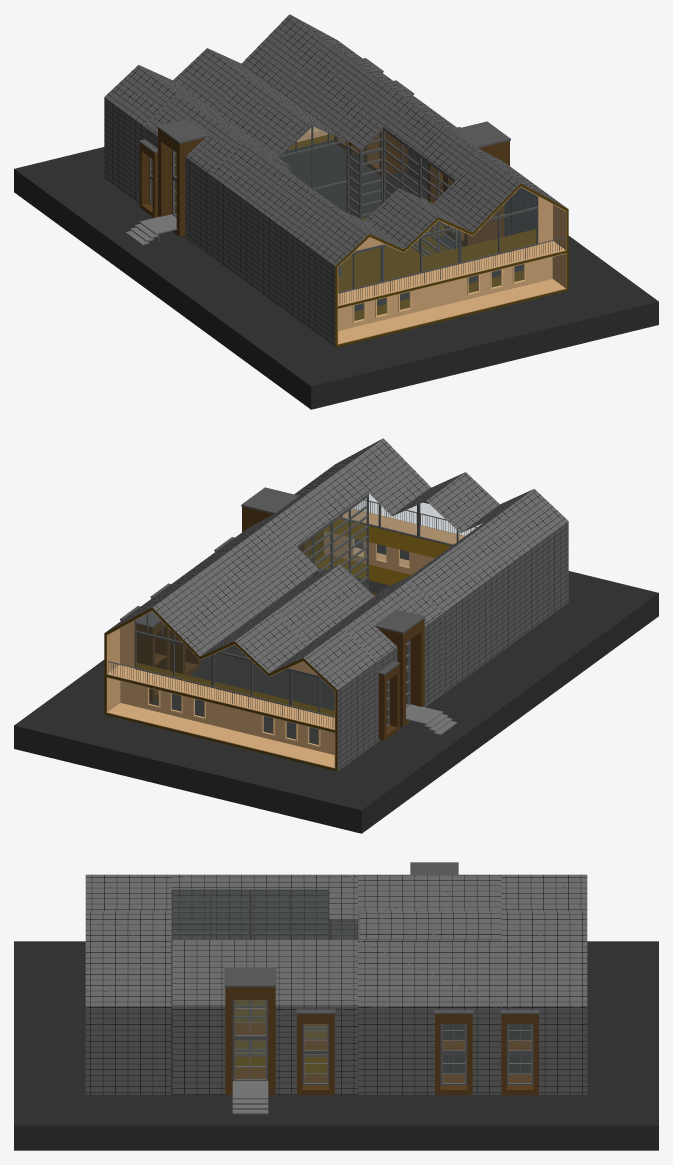
The model's file is office_sketch.glb.
The picture shows the model from 3 angles, top to bottom: view 1: azimuth 30°, elevation 25°; view 2: azimuth 150°, elevation 25°; view 3: azimuth 270°, elevation 25°; orthographic projection. The views are drawn at different scales.
Visible parts, largest first — view 1: Model, Object_9, Group8, Object_27, Object_39, Object_8, Object_161, Object_136, Object_115, Object_104, Object_160, Object_7 (+3 smaller); view 2: Model, Object_315, Group4, Object_331, Object_9, Object_343, Object_314, Object_104, Object_27, Object_160, Object_313, Group1; view 3: Model, Object_161, Object_100, Object_111, Object_160, Object_159, Object_154, Object_223, Object_237, Object_251, Object_218, Object_232 (+1 smaller).
Boxes of the visible parts, <box> form: Model: <box>14,14,658,409</box>; Object_9: <box>338,210,536,291</box>; Group8: <box>337,253,566,344</box>; Object_27: <box>337,241,566,306</box>; Object_39: <box>338,237,565,304</box>; Object_8: <box>338,189,538,293</box>; Object_161: <box>444,141,509,246</box>; Object_136: <box>362,151,381,219</box>; Object_115: <box>383,129,419,252</box>; Object_104: <box>419,156,457,256</box>; Object_160: <box>453,121,510,148</box>; Object_7: <box>425,188,536,233</box>; Model: <box>14,438,658,833</box>; Object_315: <box>136,634,334,715</box>; Group4: <box>106,677,335,768</box>; Object_331: <box>106,665,335,730</box>; Object_9: <box>343,494,480,544</box>; Object_343: <box>107,661,334,728</box>; Object_314: <box>134,613,334,717</box>; Object_104: <box>332,495,368,590</box>; Object_27: <box>339,508,464,544</box>; Object_160: <box>241,487,299,514</box>; Object_313: <box>136,612,247,657</box>; Group1: <box>120,626,134,667</box>; Model: <box>14,862,658,1150</box>; Object_161: <box>225,987,275,1094</box>; Object_100: <box>171,889,250,939</box>; Object_111: <box>250,889,329,939</box>; Object_160: <box>224,967,276,987</box>; Object_159: <box>235,1041,265,1078</box>; Object_154: <box>235,1000,265,1034</box>; Object_223: <box>305,1054,326,1082</box>; Object_237: <box>509,1054,530,1082</box>; Object_251: <box>443,1054,464,1082</box>; Object_218: <box>305,1024,326,1049</box>; Object_232: <box>509,1024,530,1049</box>.
Size of the model in its own units: 5.71 by 2.25 by 8.46.
9 materials, 1 textured.
